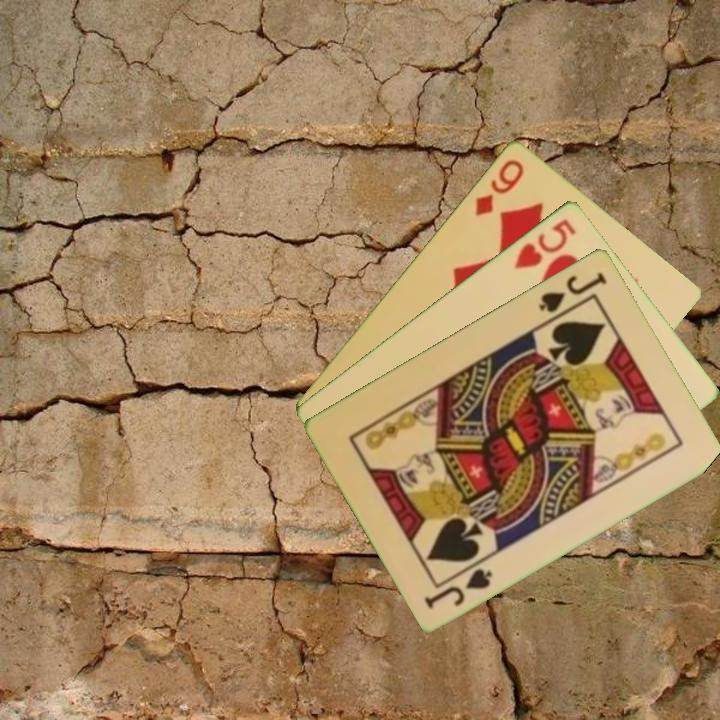5h: (510, 214, 579, 272)
9d: (471, 155, 527, 219)
Js: (420, 564, 496, 611), (535, 268, 610, 315)
